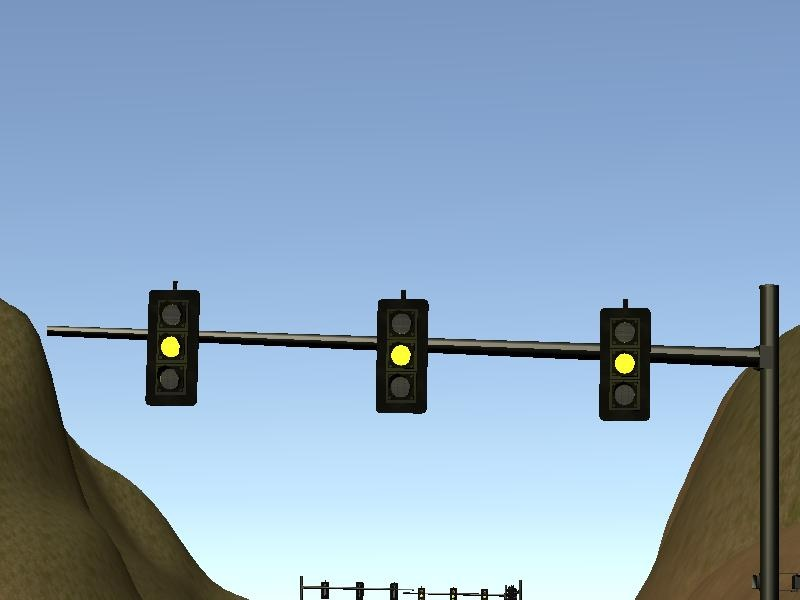YELLOW: (142, 280, 200, 408), (372, 286, 430, 414), (593, 296, 651, 424)
